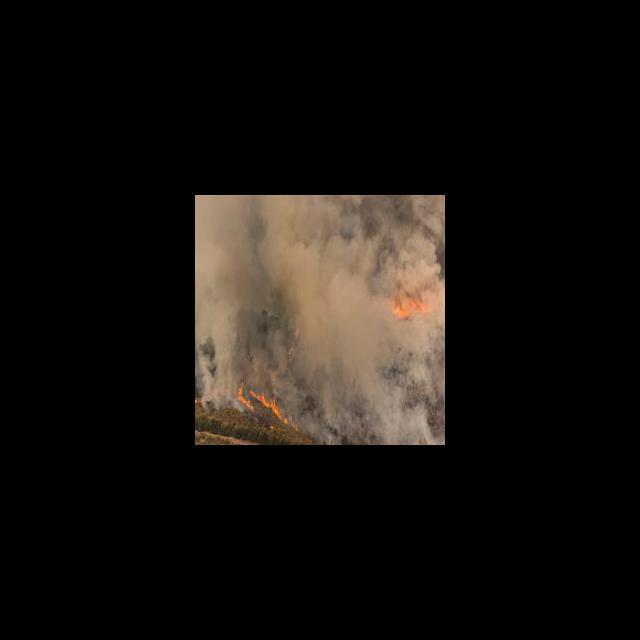Fire: (236, 385, 288, 425), (391, 290, 432, 320)
Smoke: (196, 197, 386, 382), (303, 324, 442, 445)
